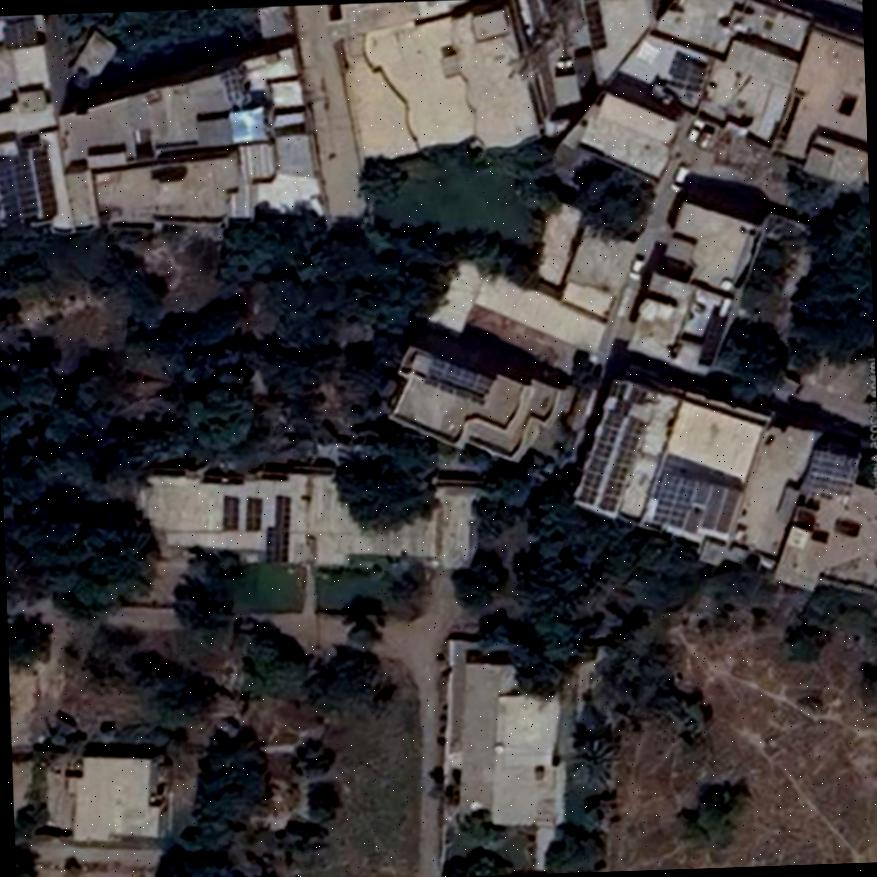Solarpanel: (578, 411, 621, 505), (598, 417, 642, 508), (427, 359, 493, 400), (0, 153, 36, 223), (806, 449, 856, 494), (654, 474, 692, 526), (29, 148, 55, 218), (266, 496, 288, 565), (582, 0, 604, 49), (3, 19, 34, 49), (221, 69, 242, 98), (244, 497, 258, 530), (222, 497, 236, 529)
